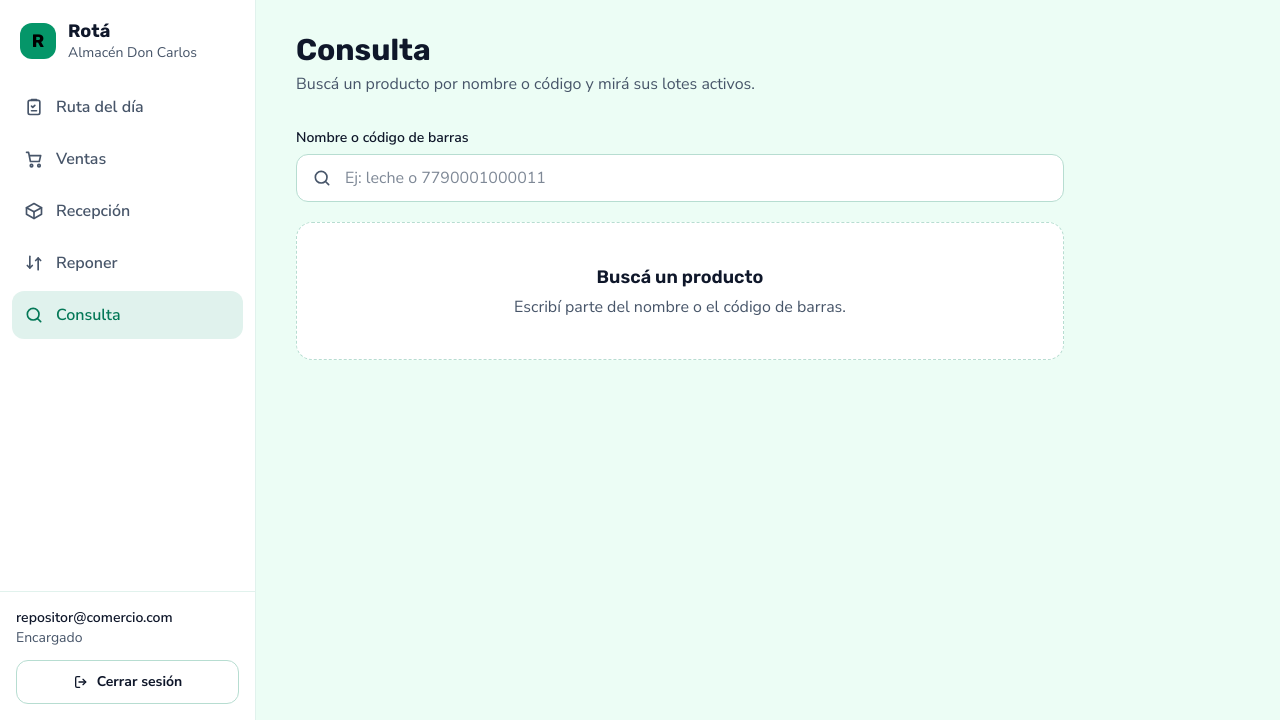
Test: Consulta rápida › avisa cuando no hay resultados
Type "zzz" into the search field labelled "Nombre o código de barras" at (680, 178), box top-left (296, 154), bottom-right (1064, 202)
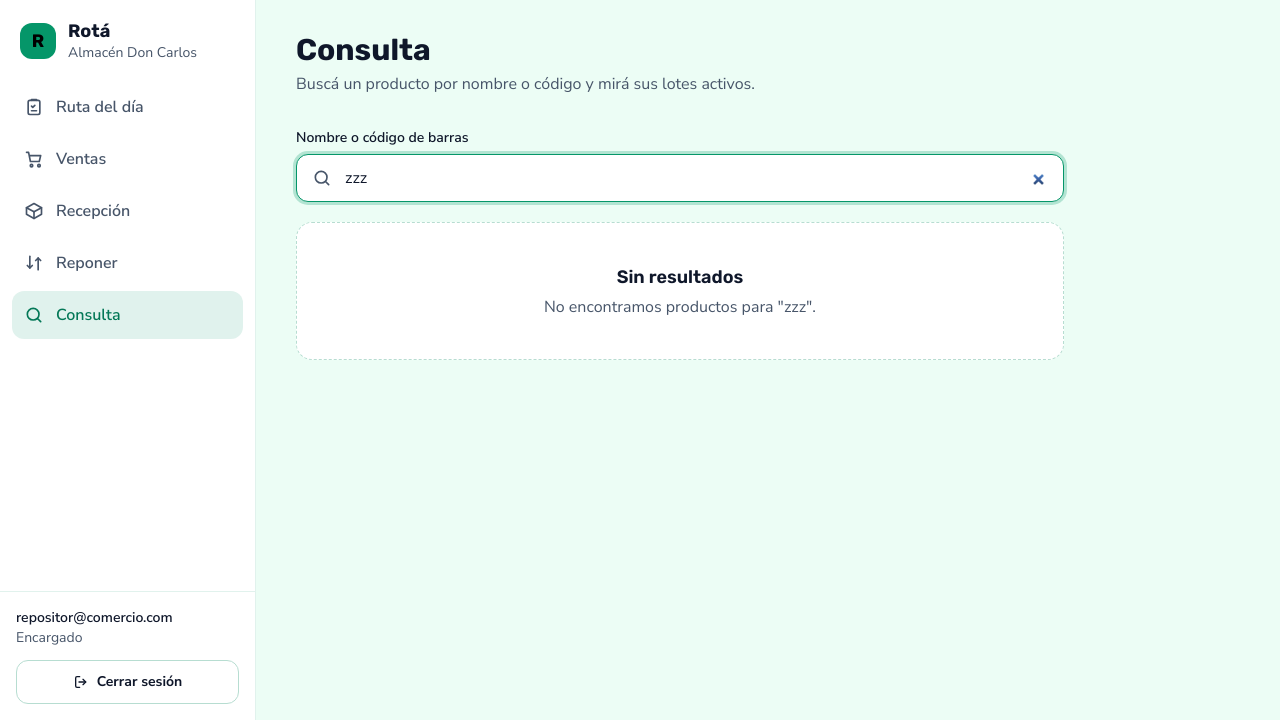
Check: the text "Sin resultados" is shown, box top-left (617, 266), bottom-right (743, 288)
